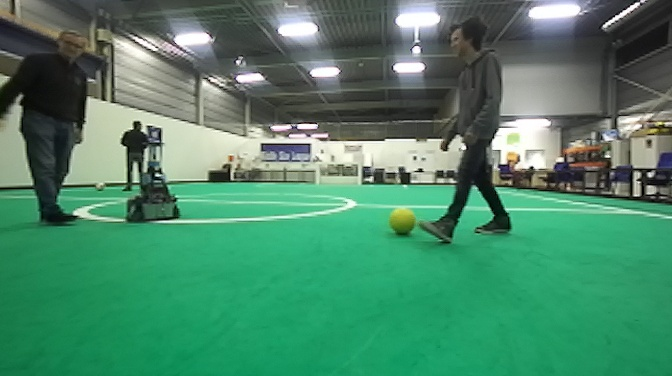ball: (386, 205, 417, 237), (92, 180, 108, 193)
goal: (314, 159, 364, 187)
goalpost: (355, 160, 364, 187), (314, 160, 320, 187)
human: (417, 15, 514, 245), (1, 25, 91, 231), (118, 119, 154, 194)
robot: (124, 137, 182, 228)
